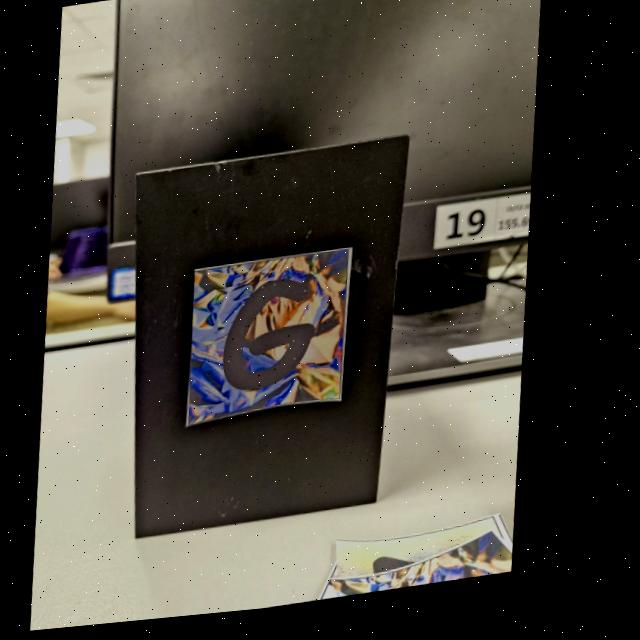G: (232, 286, 325, 396)
